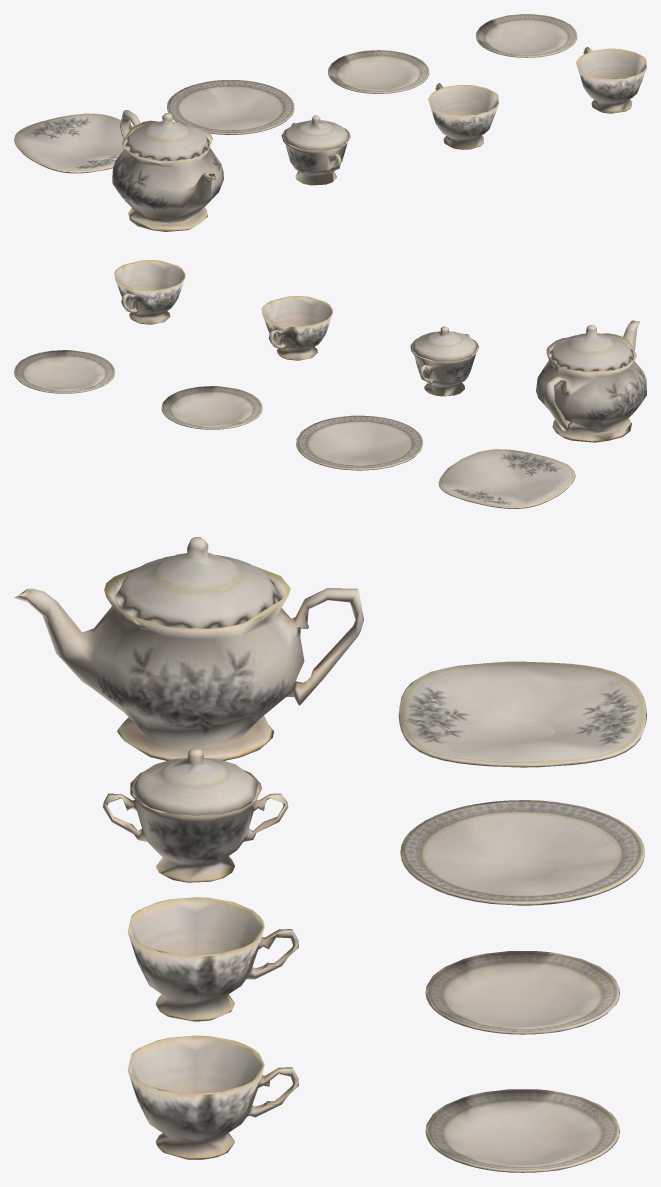
Rendered from tea_set_01.glb.
3 renders of one model, top to bottom at view 1: azimuth 30°, elevation 25°; view 2: azimuth 150°, elevation 25°; view 3: azimuth 270°, elevation 25°, orthographic. The views are drawn at different scales.
Parts seen in each view (by area): view 1: tea_set_01_teapot_01, tea_set_01_plate_large_circular_03, tea_set_01_plate_large_square_01, tea_set_01_saucer_circular_04, tea_set_01_saucer_circular_03, tea_set_01_cup_small_02, tea_set_01_cup_small_01, tea_set_01_teapot_01_lid, tea_set_01_sugar_cup_01, tea_set_01_sugar_cup_01_lid; view 2: tea_set_01_teapot_01, tea_set_01_plate_large_square_01, tea_set_01_plate_large_circular_03, tea_set_01_saucer_circular_03, tea_set_01_saucer_circular_04, tea_set_01_cup_small_02, tea_set_01_cup_small_01, tea_set_01_teapot_01_lid, tea_set_01_sugar_cup_01, tea_set_01_sugar_cup_01_lid; view 3: tea_set_01_teapot_01, tea_set_01_plate_large_square_01, tea_set_01_plate_large_circular_03, tea_set_01_cup_small_01, tea_set_01_cup_small_02, tea_set_01_saucer_circular_03, tea_set_01_saucer_circular_04, tea_set_01_teapot_01_lid, tea_set_01_sugar_cup_01, tea_set_01_sugar_cup_01_lid.
Boxes of the visible parts, x1,y1,x2,y2 form: tea_set_01_teapot_01: [112, 110, 223, 231]; tea_set_01_plate_large_circular_03: [167, 80, 294, 134]; tea_set_01_plate_large_square_01: [14, 113, 133, 173]; tea_set_01_saucer_circular_04: [328, 50, 429, 93]; tea_set_01_saucer_circular_03: [476, 14, 577, 57]; tea_set_01_cup_small_02: [576, 47, 646, 113]; tea_set_01_cup_small_01: [428, 83, 498, 149]; tea_set_01_teapot_01_lid: [125, 113, 209, 160]; tea_set_01_sugar_cup_01: [281, 122, 350, 185]; tea_set_01_sugar_cup_01_lid: [283, 115, 349, 150]; tea_set_01_teapot_01: [536, 320, 646, 442]; tea_set_01_plate_large_square_01: [438, 449, 575, 508]; tea_set_01_plate_large_circular_03: [296, 415, 422, 470]; tea_set_01_saucer_circular_03: [14, 350, 115, 393]; tea_set_01_saucer_circular_04: [161, 386, 262, 429]; tea_set_01_cup_small_02: [114, 260, 185, 324]; tea_set_01_cup_small_01: [261, 296, 332, 360]; tea_set_01_teapot_01_lid: [549, 325, 633, 371]; tea_set_01_sugar_cup_01: [410, 334, 479, 396]; tea_set_01_sugar_cup_01_lid: [411, 326, 477, 361]; tea_set_01_teapot_01: [14, 555, 363, 760]; tea_set_01_plate_large_square_01: [398, 661, 646, 767]; tea_set_01_plate_large_circular_03: [400, 800, 644, 905]; tea_set_01_cup_small_01: [128, 897, 298, 1021]; tea_set_01_cup_small_02: [127, 1035, 298, 1159]; tea_set_01_saucer_circular_03: [425, 1089, 619, 1172]; tea_set_01_saucer_circular_04: [425, 951, 619, 1034]; tea_set_01_teapot_01_lid: [116, 537, 279, 628]; tea_set_01_sugar_cup_01: [102, 770, 288, 882]; tea_set_01_sugar_cup_01_lid: [131, 748, 258, 815].
Bounding box in the file's own units: 0.918 × 0.1647 × 0.4836.
1 material, 1 textured.
